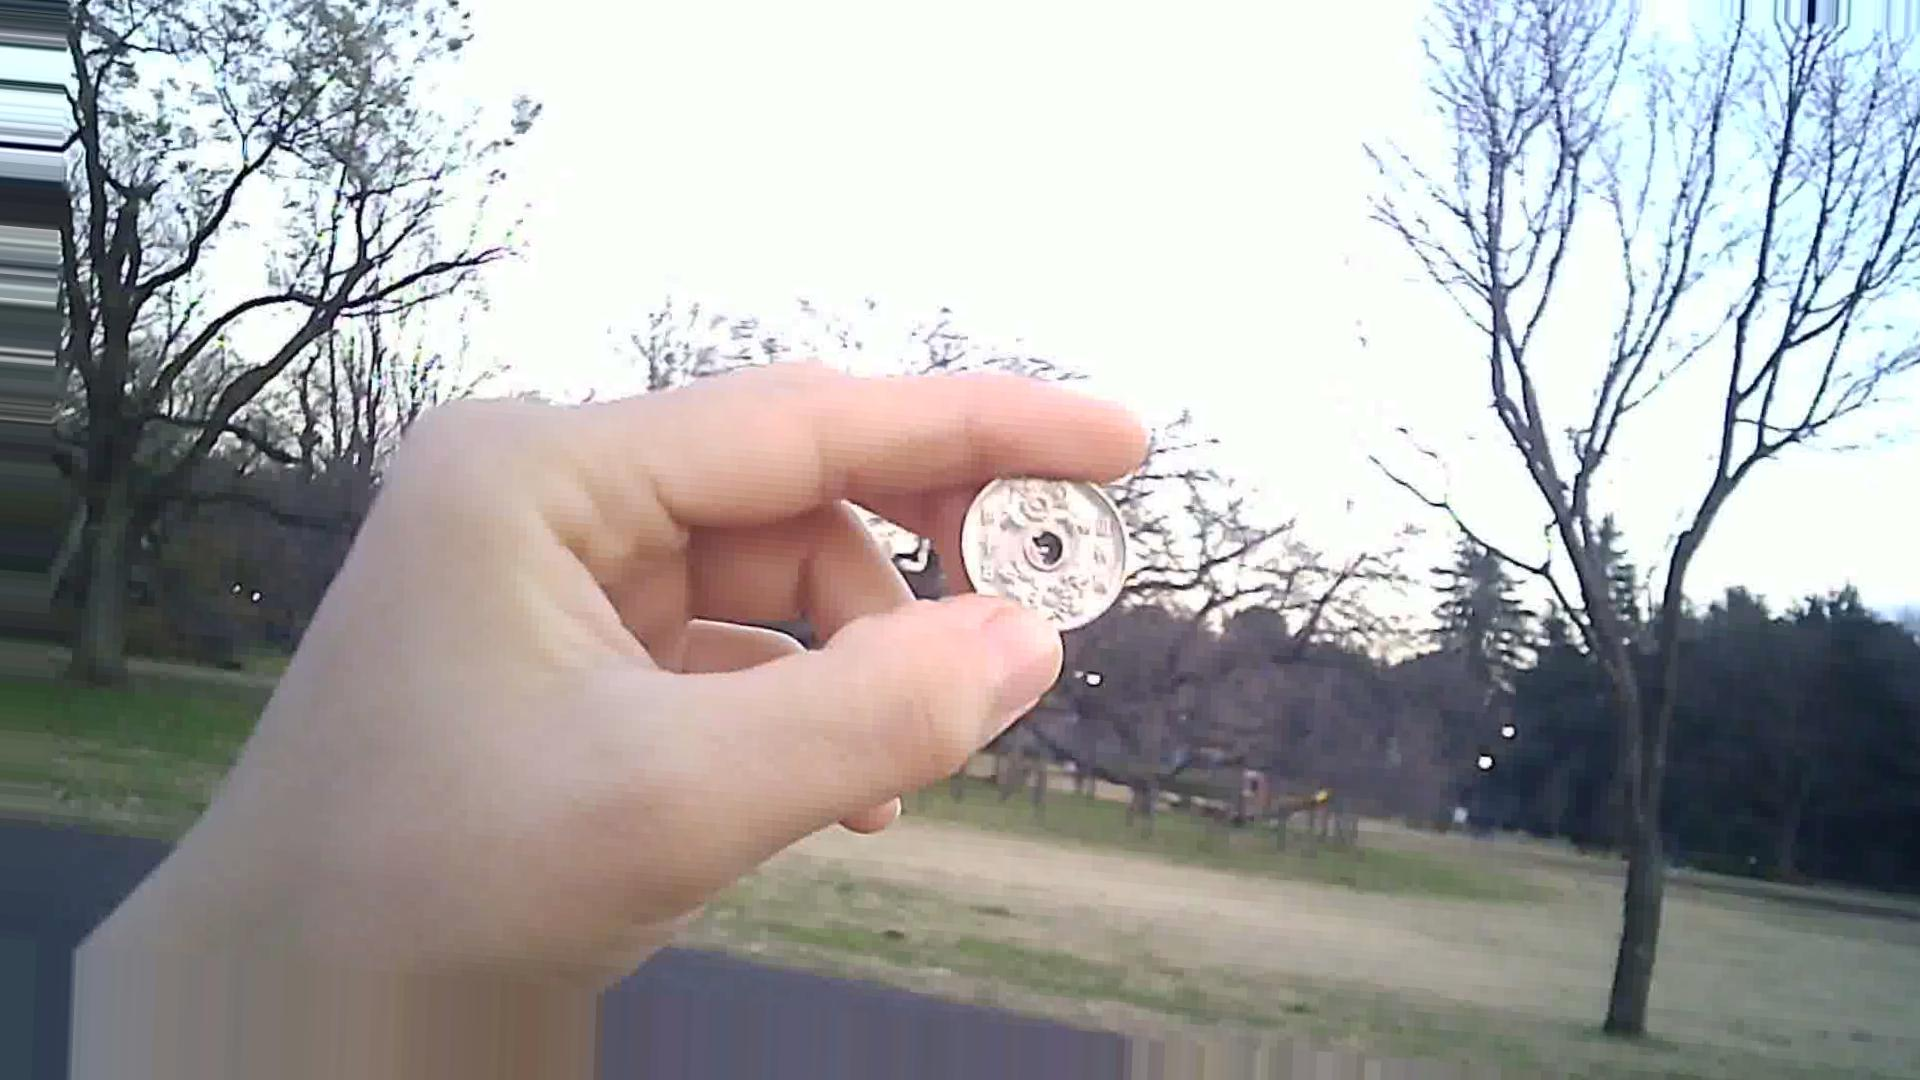50 Yen: (945, 442, 1141, 633)
